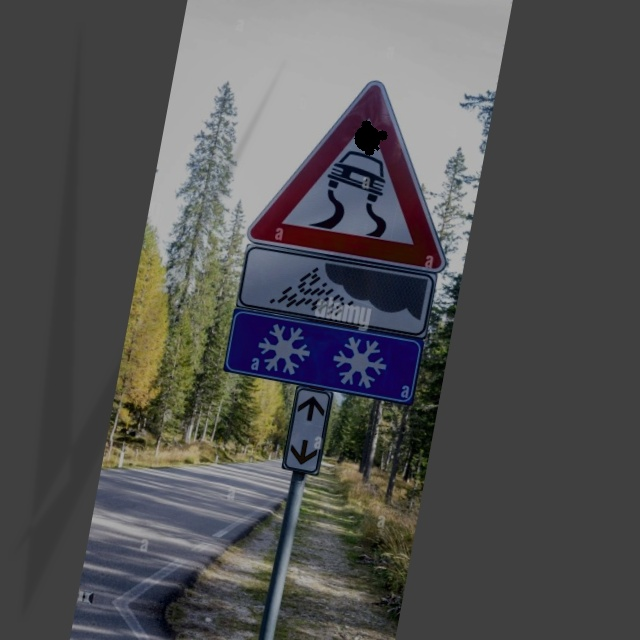Slippery_Road: (256, 67, 465, 267)
